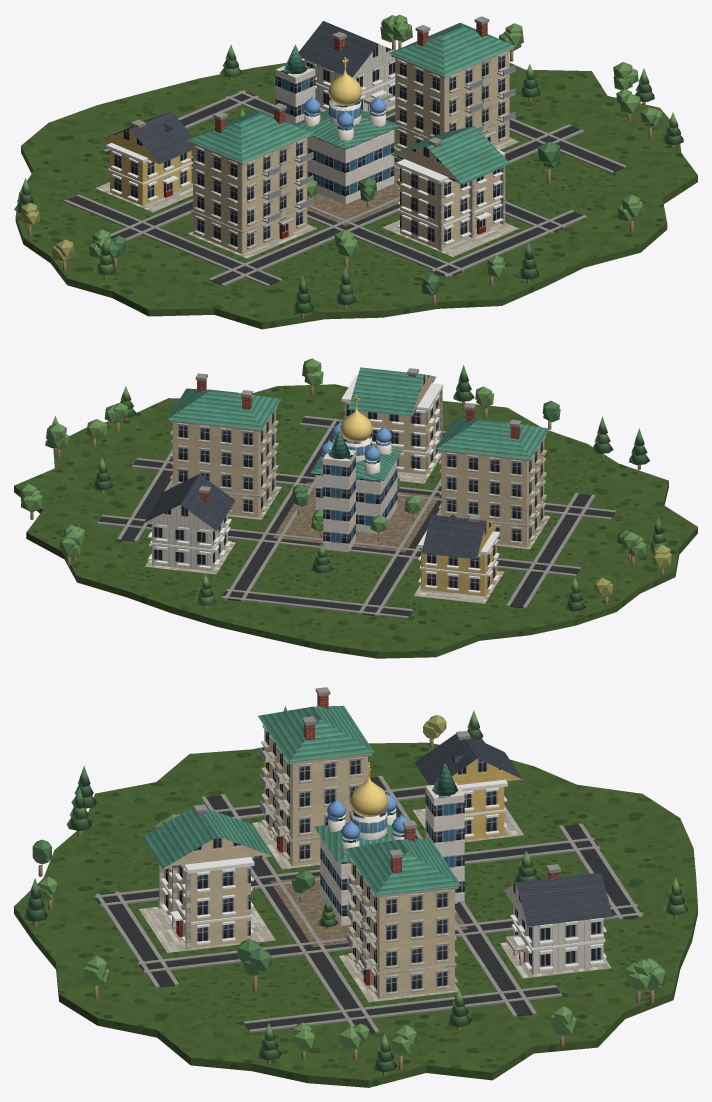
Rendered from city_east_medium.gltf.
The picture shows the model from 3 angles, top to bottom: view 1: azimuth 30°, elevation 25°; view 2: azimuth 150°, elevation 25°; view 3: azimuth 270°, elevation 25°; orthographic projection. The views are drawn at different scales.
Visible parts, largest first — view 1: city_east_medium; view 2: city_east_medium; view 3: city_east_medium.
Boxes of the visible parts, x1,y1,x2,y2 form: city_east_medium: (14, 14, 697, 329); city_east_medium: (14, 358, 697, 658); city_east_medium: (14, 687, 697, 1087).
Size of the model in its own units: 3.1 by 0.764 by 2.6.
Materials: 21 (13 with a texture image).
